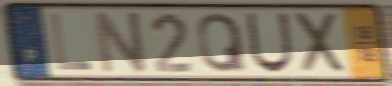2: (147, 11, 196, 75)
L: (48, 12, 95, 72)
N: (92, 8, 149, 76)
Q: (195, 11, 249, 75)
U: (244, 11, 295, 75)
X: (292, 10, 349, 77)
